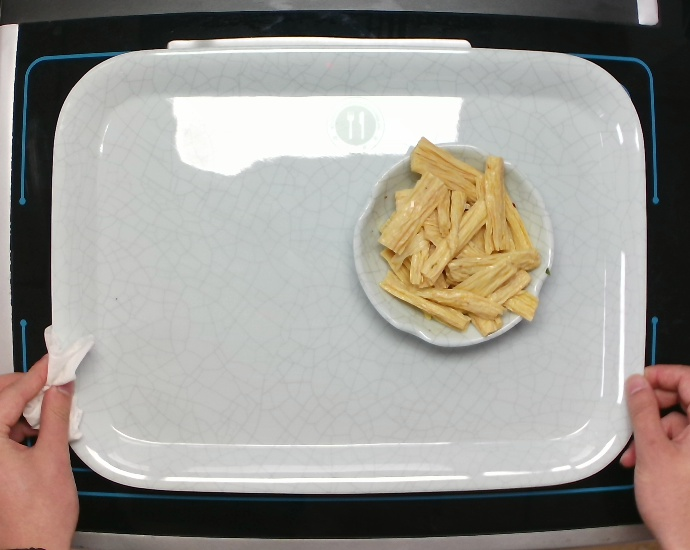JYsf-Ao_Yuan_Wan: (353, 142, 553, 348)
